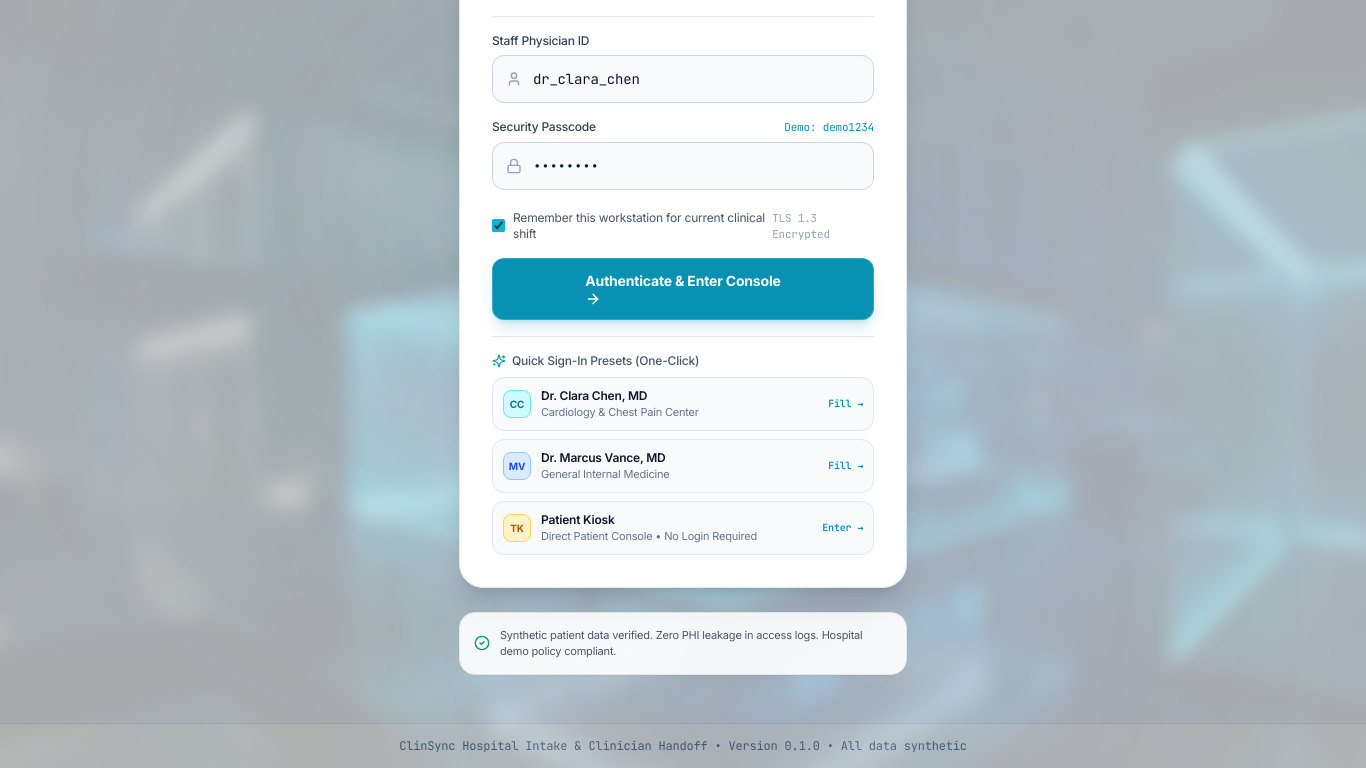
it: LoginPage Component › populates fields when a 1-click quick-fill preset is selected
This screenshot has width=1366, height=768.
Click the button with test id "preset-dr-marcus" at (603, 457), box [492, 438, 874, 492]
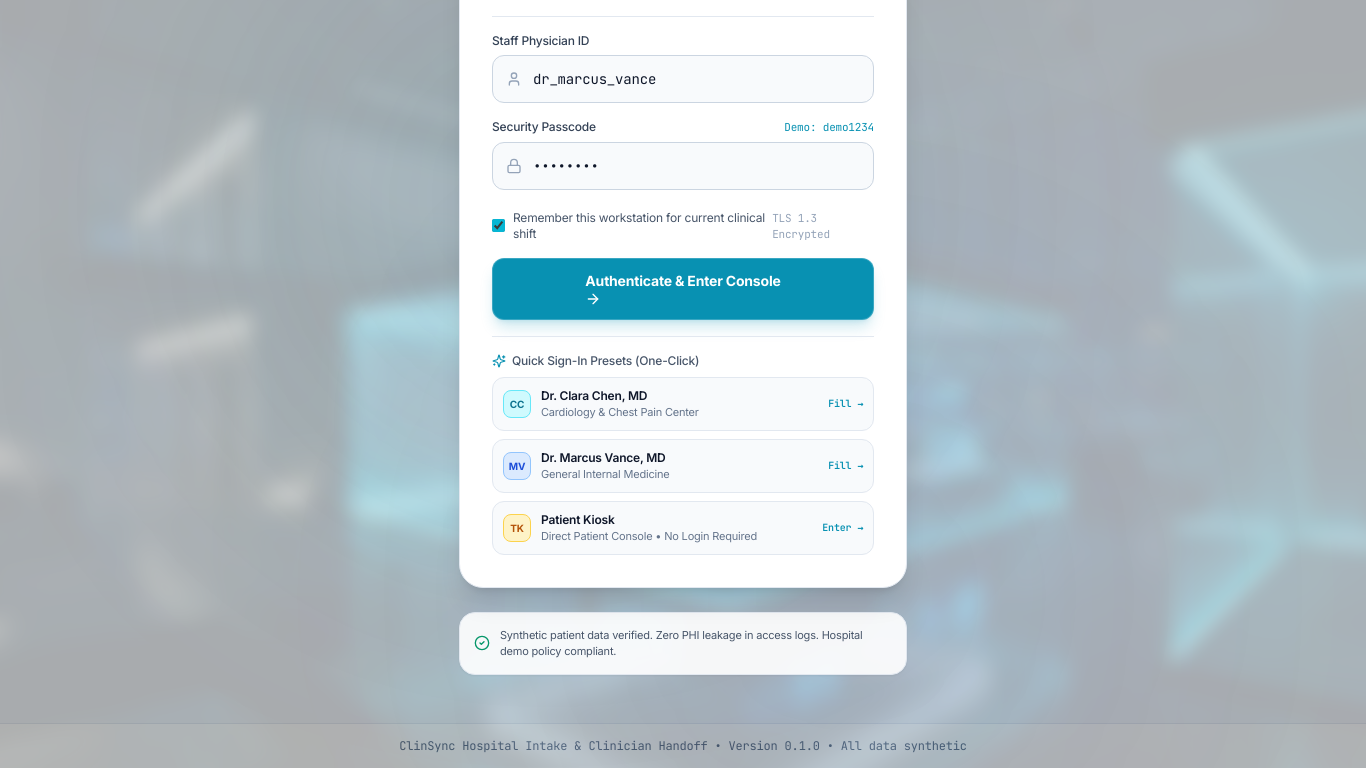
Check: the field with test id "input-login-userid" holds "dr_marcus_vance", box [492, 55, 874, 103]
